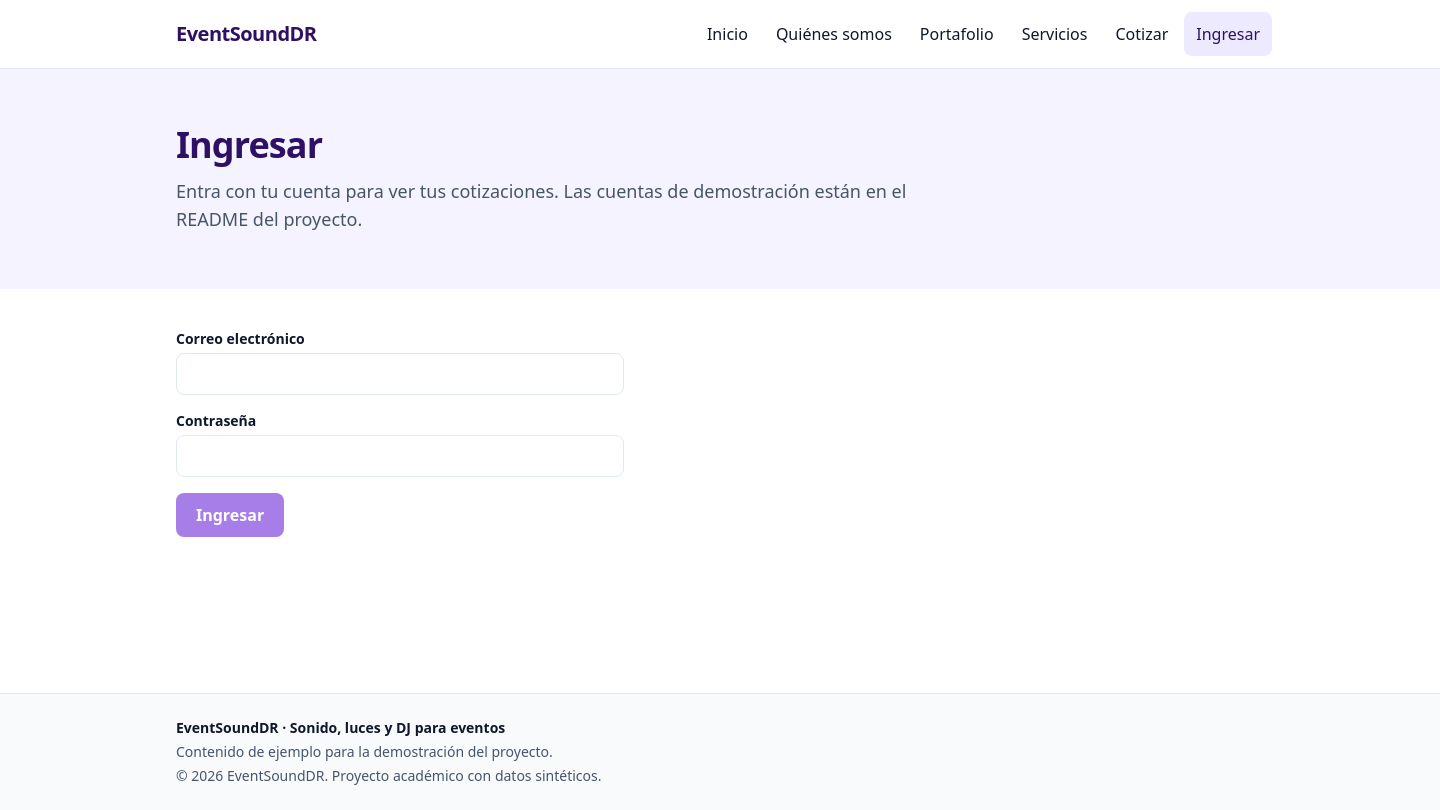
Scenario: sign in › signs out: the session is dropped and the login link comes back
The width and height of the screenshot is (1440, 810).
Type "cliente@eventsounddr.example" into the field labelled "Correo electrónico".
click(400, 374); type("cliente@eventsounddr.example")  # box x1=176 y1=353 x2=624 y2=395
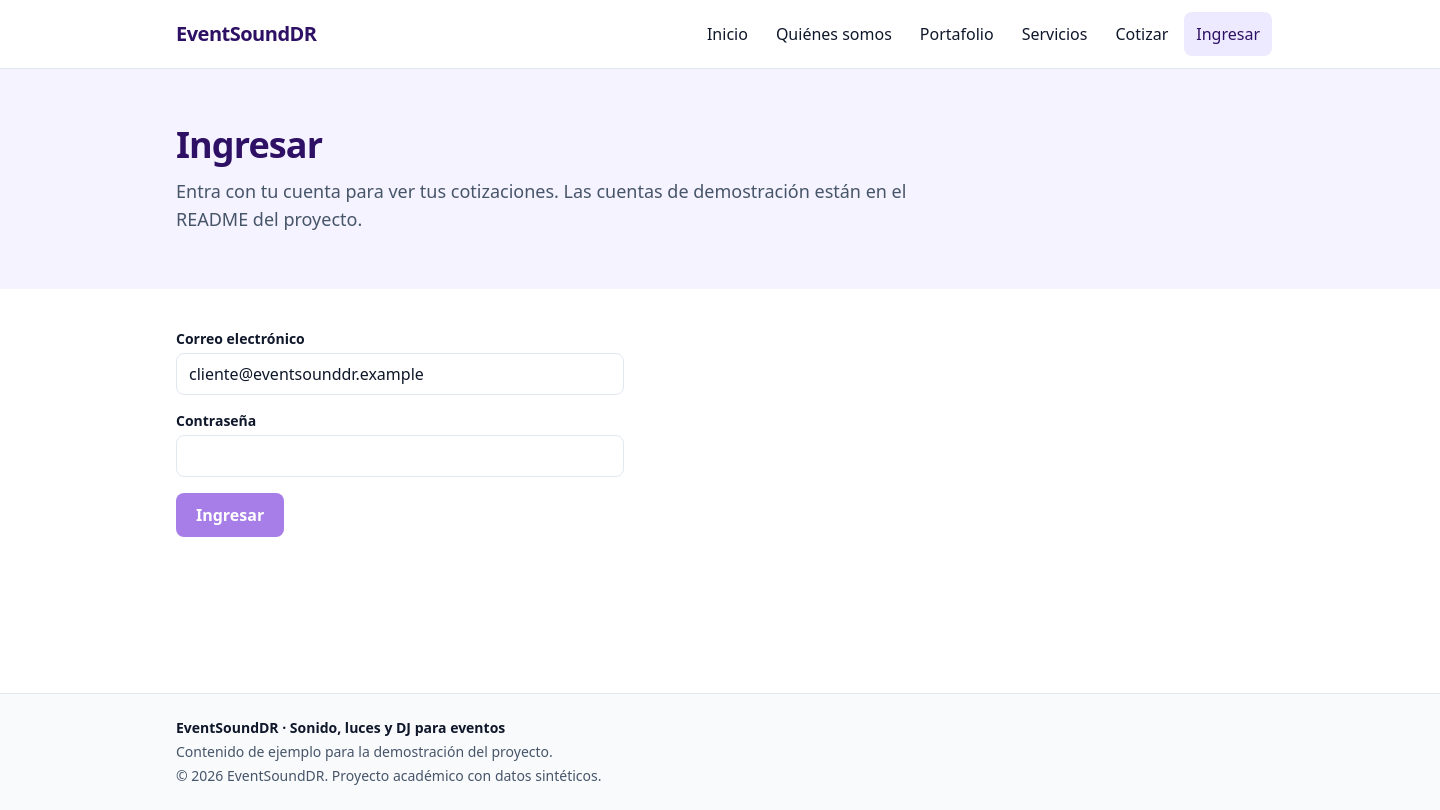
Type "demo-password" into the password field labelled "Contraseña".
click(400, 456); type("demo-password")  # box x1=176 y1=435 x2=624 y2=477
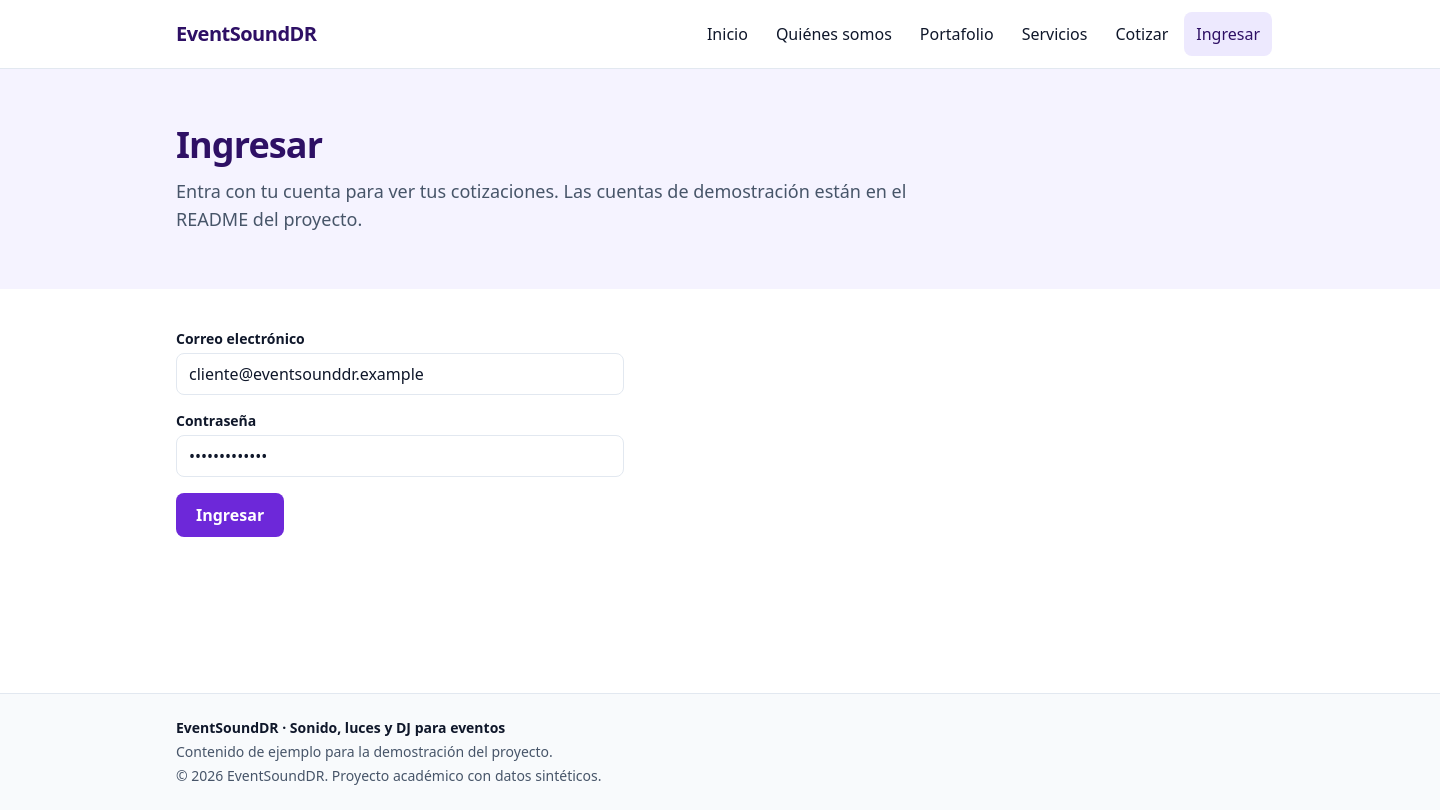
Click the button "Ingresar".
click(230, 515)  # box x1=176 y1=493 x2=284 y2=537
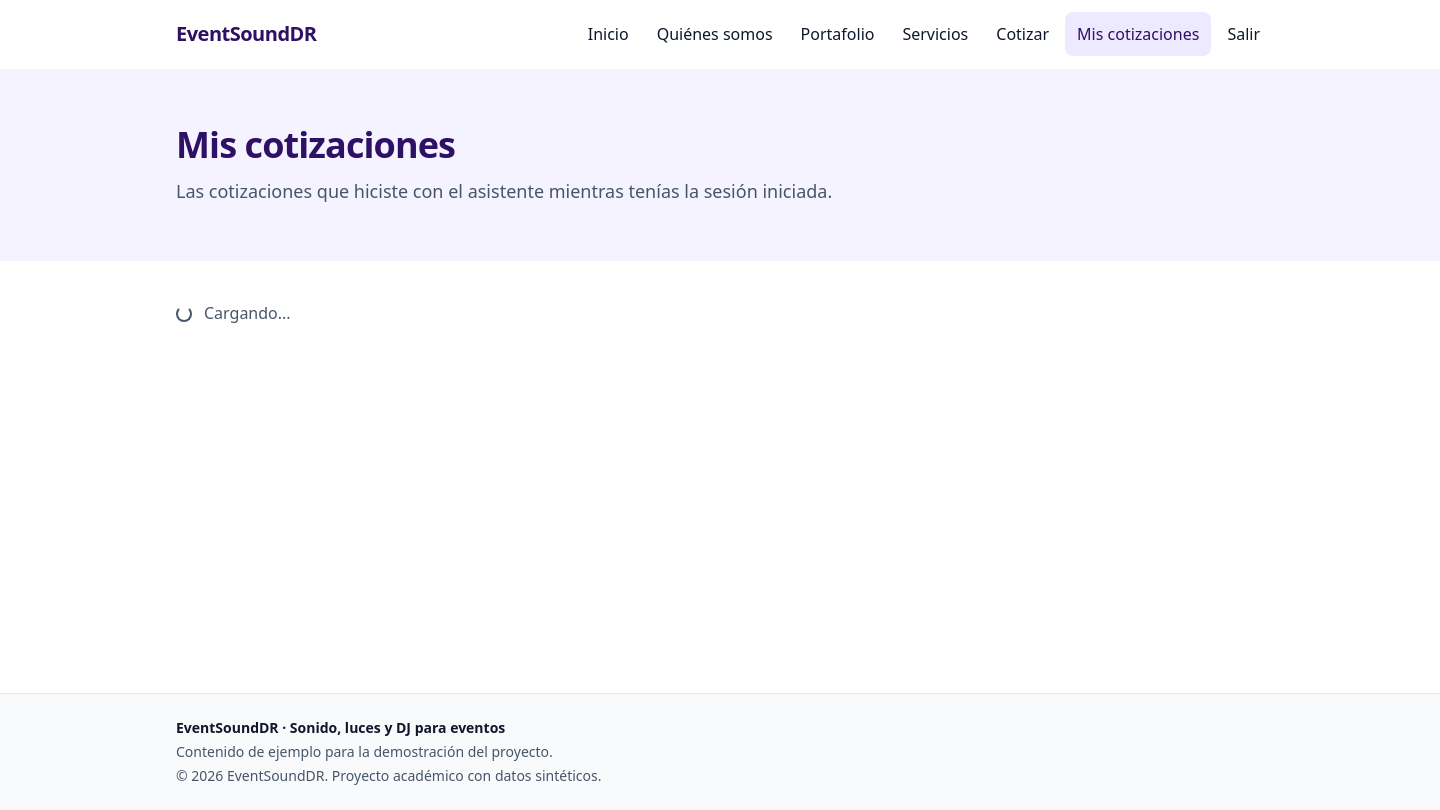
Click the button "Salir".
click(1244, 34)  # box x1=1215 y1=12 x2=1272 y2=56
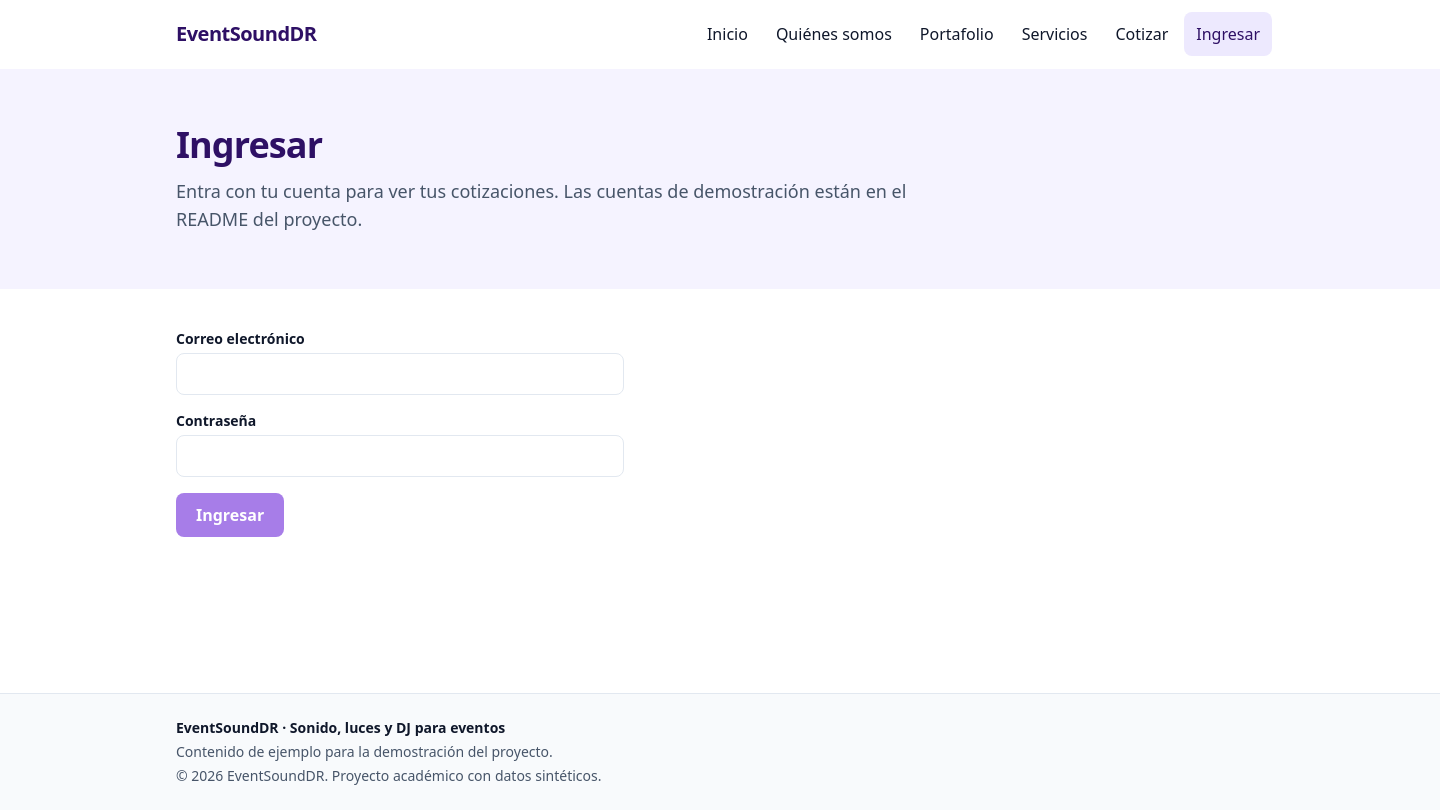
Check: the heading "Ingresar" is shown, box x1=176 y1=120 x2=322 y2=169
